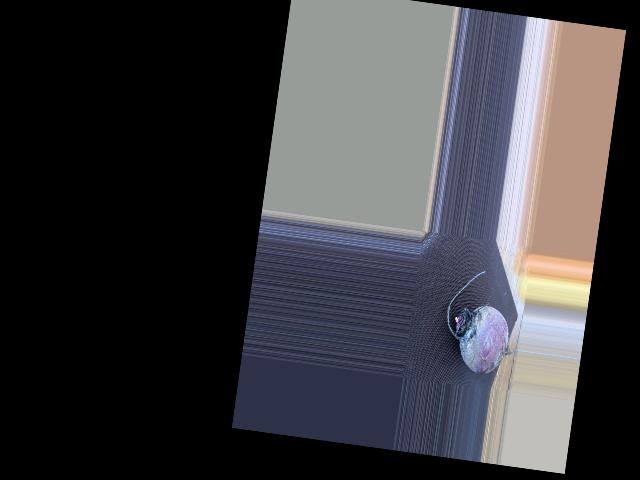beet: (439, 266, 528, 378)
